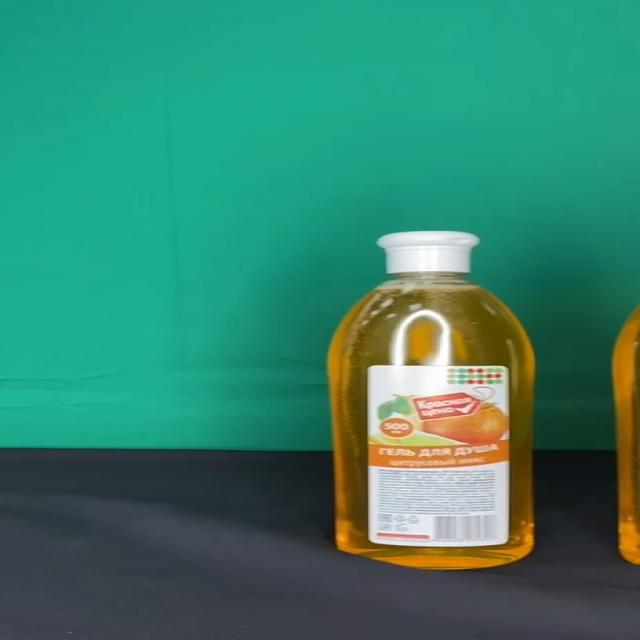Bottle: (328, 230, 536, 570)
Cap: (376, 232, 479, 273)
